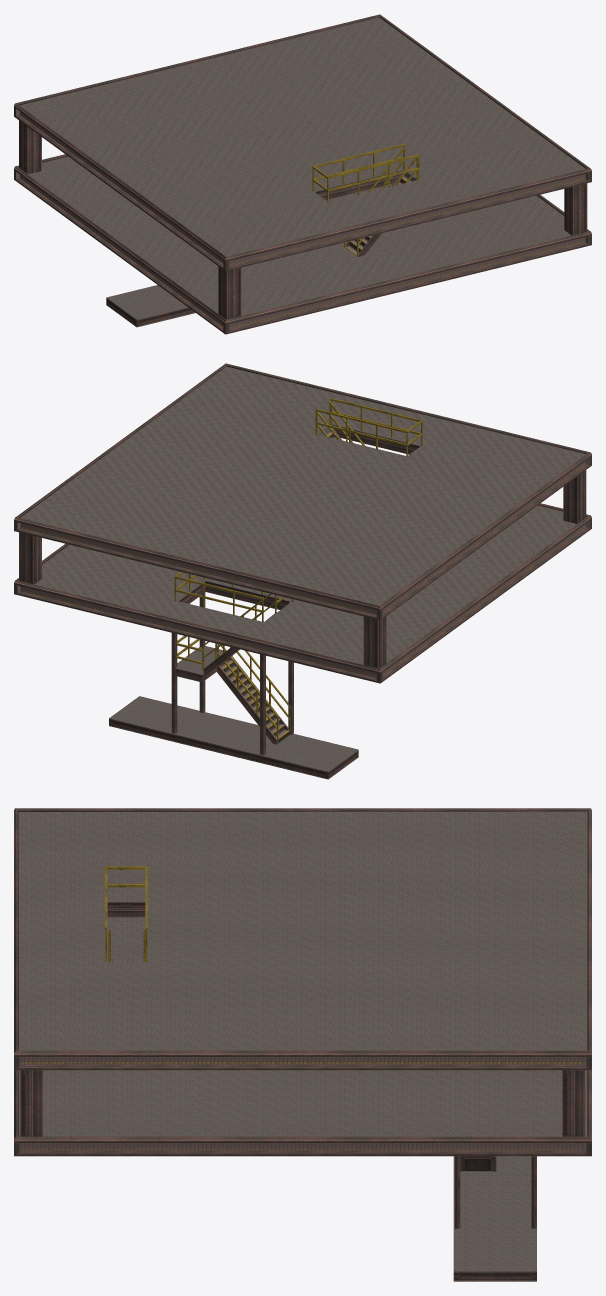
The model's file is OPLT01.glb.
3 views of the same model, one above another, from view 1: azimuth 30°, elevation 25°; view 2: azimuth 150°, elevation 25°; view 3: azimuth 270°, elevation 25° (orthographic). The views are drawn at different scales.
Parts seen in each view (by area): view 1: _OPLT01; view 2: _OPLT01; view 3: _OPLT01.
Boxes of the visible parts, x1,y1,x2,y2 form: _OPLT01: (14,14,591,334); _OPLT01: (14,363,591,779); _OPLT01: (14,808,591,1281).
Size of the model in its own units: 25 by 14.86 by 25.
5 materials, 5 textured.
